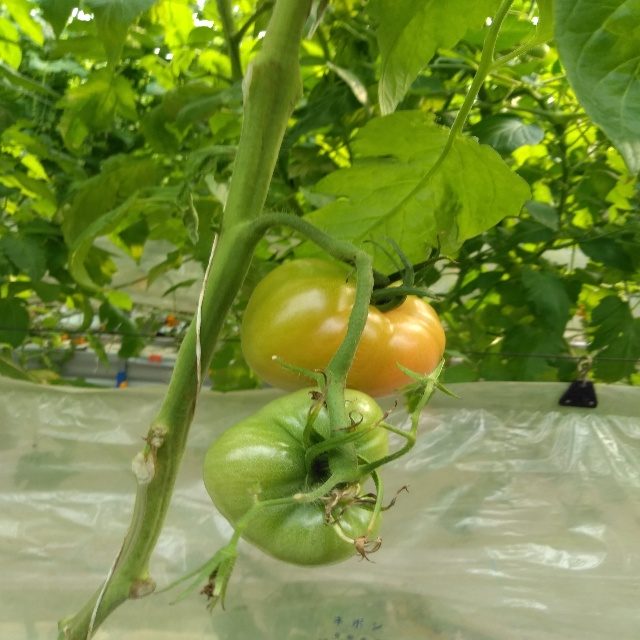b_green: (201, 386, 389, 568)
b_half_ripened: (239, 258, 445, 398)
